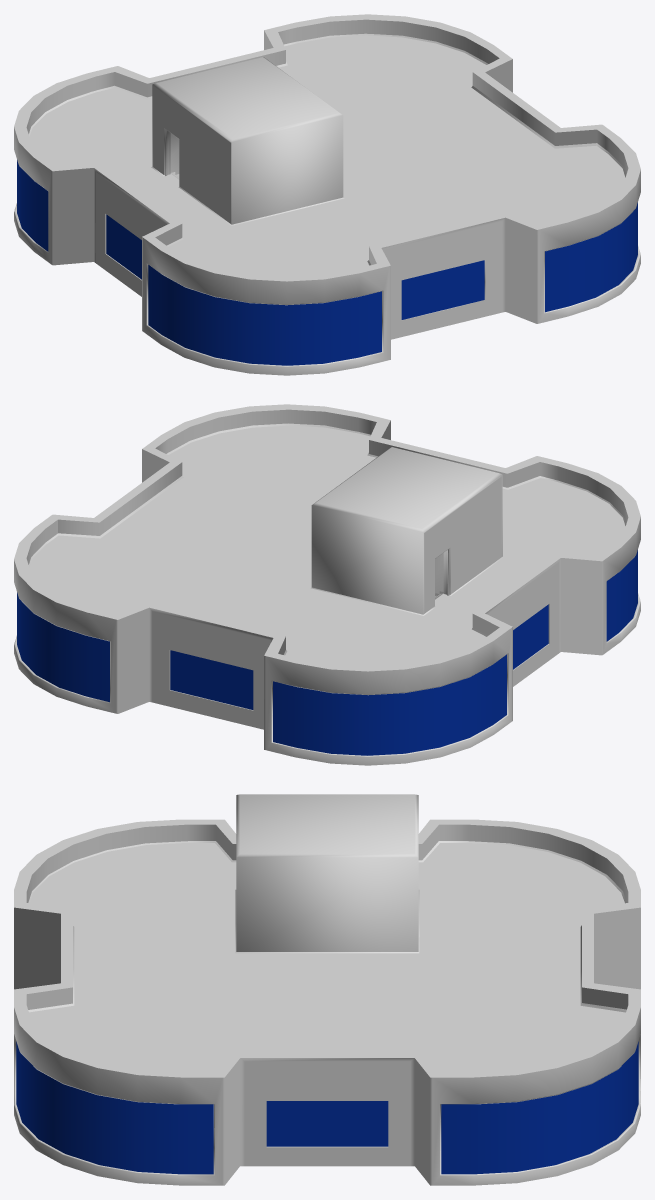
Rendered from E_roof.fbx.
3 views of the same model, one above another, from view 1: azimuth 30°, elevation 25°; view 2: azimuth 150°, elevation 25°; view 3: azimuth 270°, elevation 25° (orthographic). The views are drawn at different scales.
Parts seen in each view (by area): view 1: E_roof_outwall, E_roof_glass, E_roof; view 2: E_roof_outwall, E_roof_glass, E_roof; view 3: E_roof_outwall, E_roof_glass, E_roof.
Boxes of the visible parts, bbox=[...] form: E_roof_outwall: bbox=[14, 14, 640, 375]; E_roof_glass: bbox=[17, 160, 637, 365]; E_roof: bbox=[39, 128, 617, 365]; E_roof_outwall: bbox=[14, 404, 640, 765]; E_roof_glass: bbox=[17, 550, 637, 755]; E_roof: bbox=[37, 548, 549, 755]; E_roof_outwall: bbox=[14, 794, 640, 1185]; E_roof_glass: bbox=[16, 1041, 638, 1174]; E_roof: bbox=[40, 889, 614, 1171].
Bounding box in the file's own units: 36.18 × 15.69 × 37.17.
